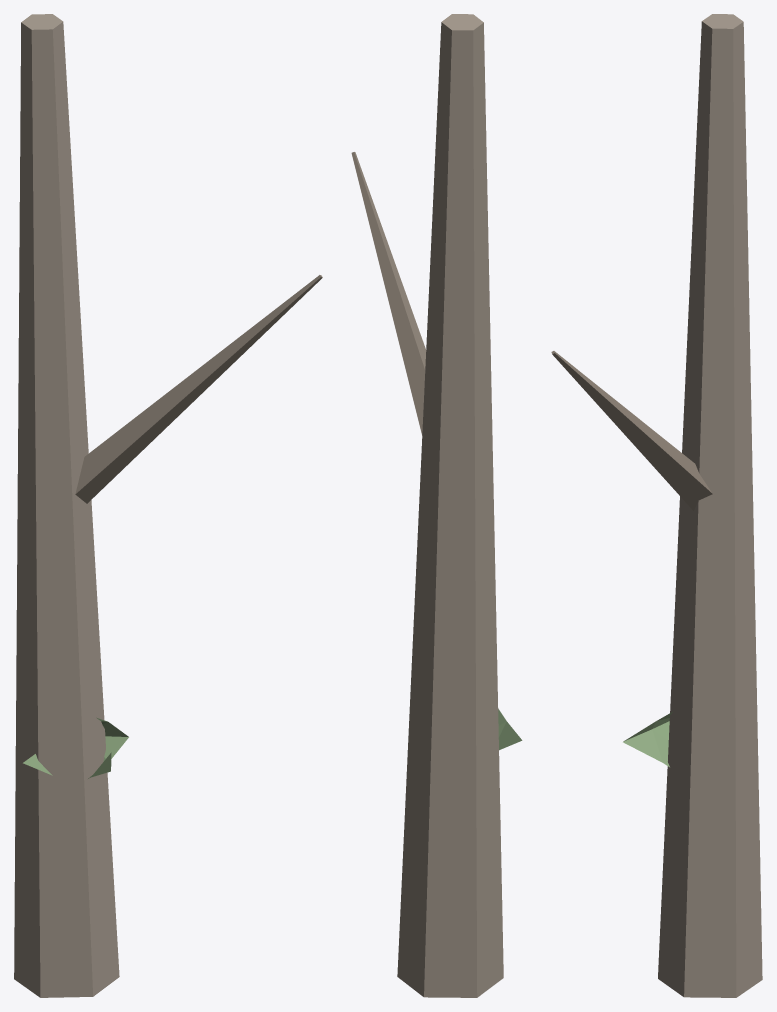
Rendered from snag_v33.glb.
3 views of the same model, side by side, from view 1: azimuth 30°, elevation 25°; view 2: azimuth 150°, elevation 25°; view 3: azimuth 270°, elevation 25° (orthographic).
Parts seen in each view (by area): view 1: lod0; view 2: lod0; view 3: lod0.
Boxes of the visible parts, <box> form: lod0: <box>14,14,322,997</box>; lod0: <box>351,14,522,997</box>; lod0: <box>551,14,762,997</box>.
Size of what is drawn, in the model's own units: 1 by 3.91 by 0.7864.
